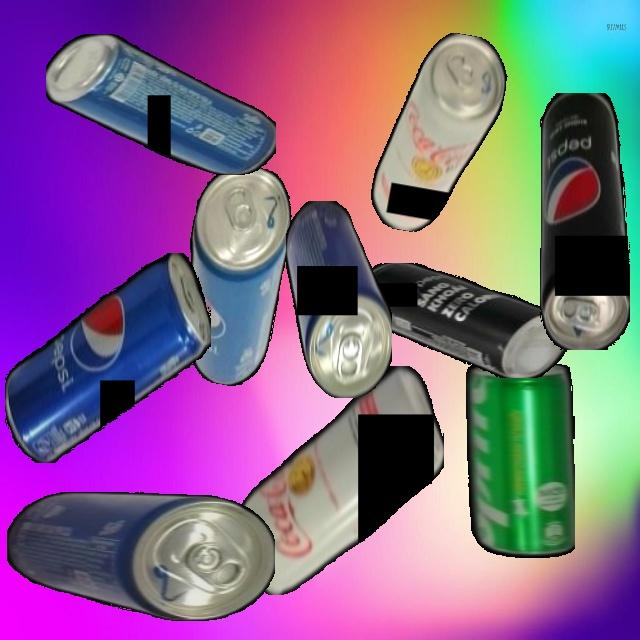debris: (234, 365, 444, 595), (4, 252, 211, 463), (6, 492, 275, 621), (45, 34, 276, 175), (366, 24, 513, 243), (167, 159, 300, 391), (357, 262, 580, 378), (539, 92, 630, 350), (465, 364, 575, 558), (285, 200, 392, 398)
